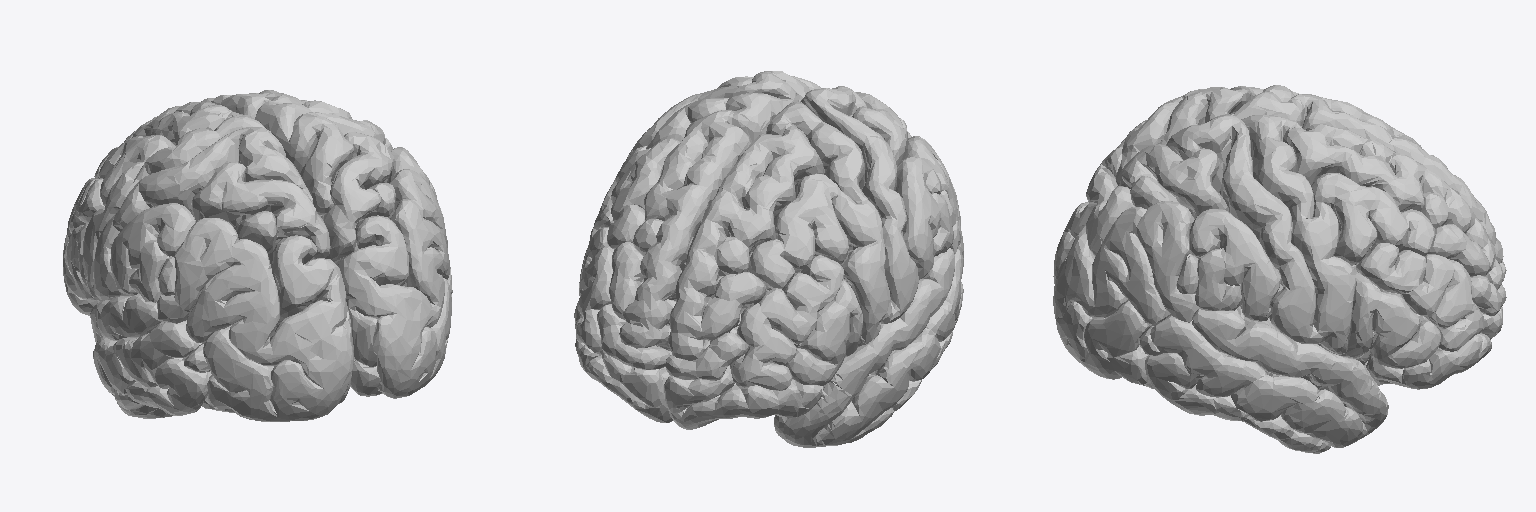
File: left_right_low_res.obj
The picture shows the model from 3 angles: view 1: azimuth 30°, elevation 25°; view 2: azimuth 150°, elevation 25°; view 3: azimuth 270°, elevation 25°; orthographic projection.
Parts seen in each view (by area): view 1: Mesh, right_Mesh; view 2: Mesh, right_Mesh; view 3: right_Mesh, Mesh.
Part boxes in pixels (x1,y1,x2,y2): Mesh: (63, 102, 353, 421); right_Mesh: (201, 90, 452, 398); Mesh: (664, 86, 963, 447); right_Mesh: (574, 71, 820, 422); right_Mesh: (1053, 114, 1506, 453); Mesh: (1053, 85, 1506, 283).
Size of the model in its own units: 144 by 135 by 181.